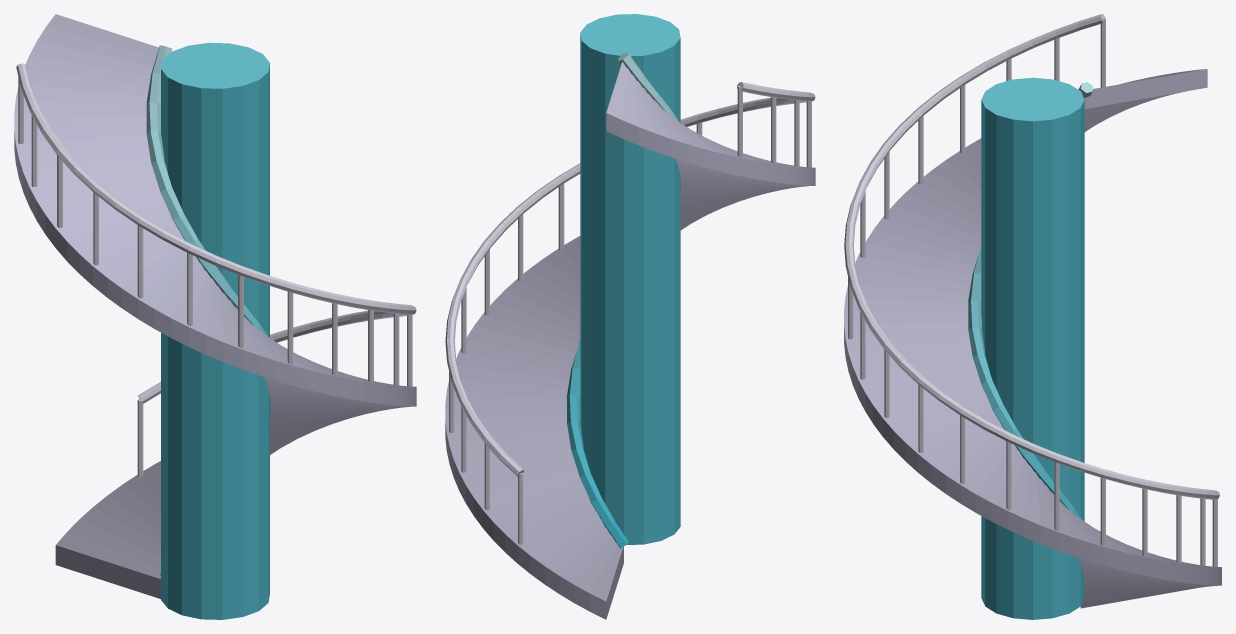
The model's file is goo_jar_stair@space.fbx.
3 views of the same model, side by side, from view 1: azimuth 30°, elevation 25°; view 2: azimuth 150°, elevation 25°; view 3: azimuth 270°, elevation 25° (orthographic). The views are drawn at different scales.
Parts seen in each view (by area): view 1: goo_jar_stair; view 2: goo_jar_stair; view 3: goo_jar_stair.
Boxes of the visible parts, left/top/right/bottom form: goo_jar_stair: left=14, top=14, right=416, bottom=619; goo_jar_stair: left=445, top=14, right=815, bottom=619; goo_jar_stair: left=844, top=14, right=1221, bottom=619.
Bounding box in the file's own units: 10.99 × 17.03 × 10.99.
